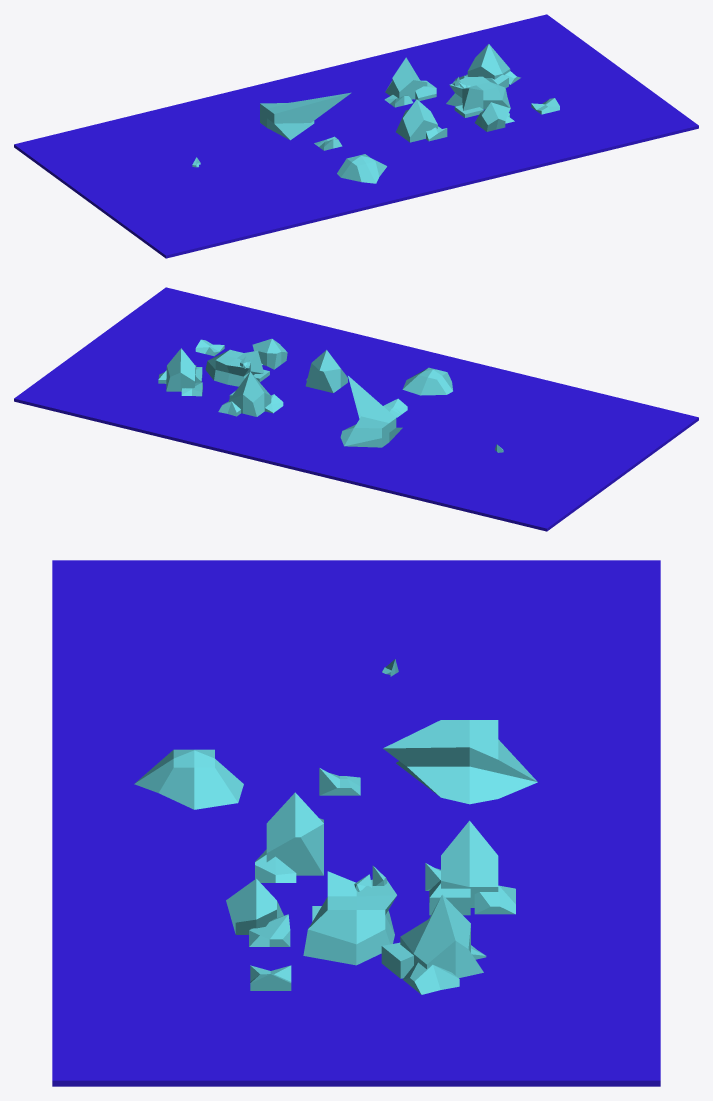
Rendered from MapaDeHielov1.fbx.
The picture shows the model from 3 angles, top to bottom: view 1: azimuth 30°, elevation 25°; view 2: azimuth 150°, elevation 25°; view 3: azimuth 270°, elevation 25°; orthographic projection. The views are drawn at different scales.
Parts seen in each view (by area): view 1: Cube.015, Cube.027, Cube, Cube.016, Cube.028, Cube.008, Cube.012, Cube.006; view 2: Cube.015, Cube.027, Cube, Cube.016, Cube.008, Cube.028, Cube.012, Cube.006; view 3: Cube.015, Cube.027, Cube, Cube.028, Cube.012, Cube.016, Cube.008, Cube.006, Cube.002, Cube.010, Cube.005, Cube.004 (+4 smaller).
Part boxes in pixels (x1=…): Cube.015: x1=14, y1=14, x2=698, y2=258; Cube.027: x1=260, y1=92, x2=351, y2=140; Cube: x1=446, y1=76, x2=510, y2=110; Cube.016: x1=396, y1=99, x2=437, y2=142; Cube.028: x1=337, y1=154, x2=386, y2=183; Cube.008: x1=385, y1=57, x2=427, y2=99; Cube.012: x1=467, y1=44, x2=510, y2=79; Cube.006: x1=475, y1=102, x2=510, y2=131; Cube.015: x1=14, y1=287, x2=698, y2=531; Cube.027: x1=340, y1=376, x2=402, y2=447; Cube: x1=205, y1=349, x2=264, y2=386; Cube.016: x1=305, y1=350, x2=347, y2=393; Cube.008: x1=229, y1=372, x2=271, y2=416; Cube.028: x1=402, y1=367, x2=452, y2=395; Cube.012: x1=166, y1=348, x2=196, y2=391; Cube.006: x1=252, y1=338, x2=287, y2=369; Cube.015: x1=52, y1=560, x2=660, y2=1086; Cube.027: x1=383, y1=720, x2=537, y2=804; Cube: x1=303, y1=871, x2=396, y2=965; Cube.028: x1=134, y1=749, x2=243, y2=809; Cube.012: x1=400, y1=894, x2=483, y2=977; Cube.016: x1=266, y1=792, x2=323, y2=875; Cube.008: x1=441, y1=820, x2=498, y2=907; Cube.006: x1=226, y1=878, x2=283, y2=934; Cube.002: x1=403, y1=962, x2=459, y2=994; Cube.010: x1=474, y1=885, x2=515, y2=914; Cube.005: x1=249, y1=914, x2=290, y2=946; Cube.004: x1=250, y1=965, x2=291, y2=990.
Bounding box in the file's own units: 36879 × 2814 × 18217.
